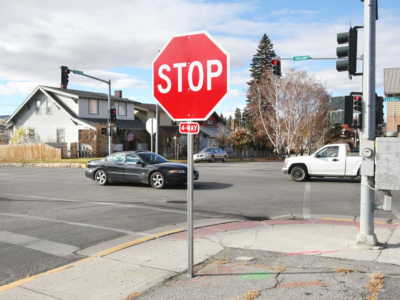stop: (156, 43, 225, 113)
trafficlight_red: (272, 58, 279, 74)
